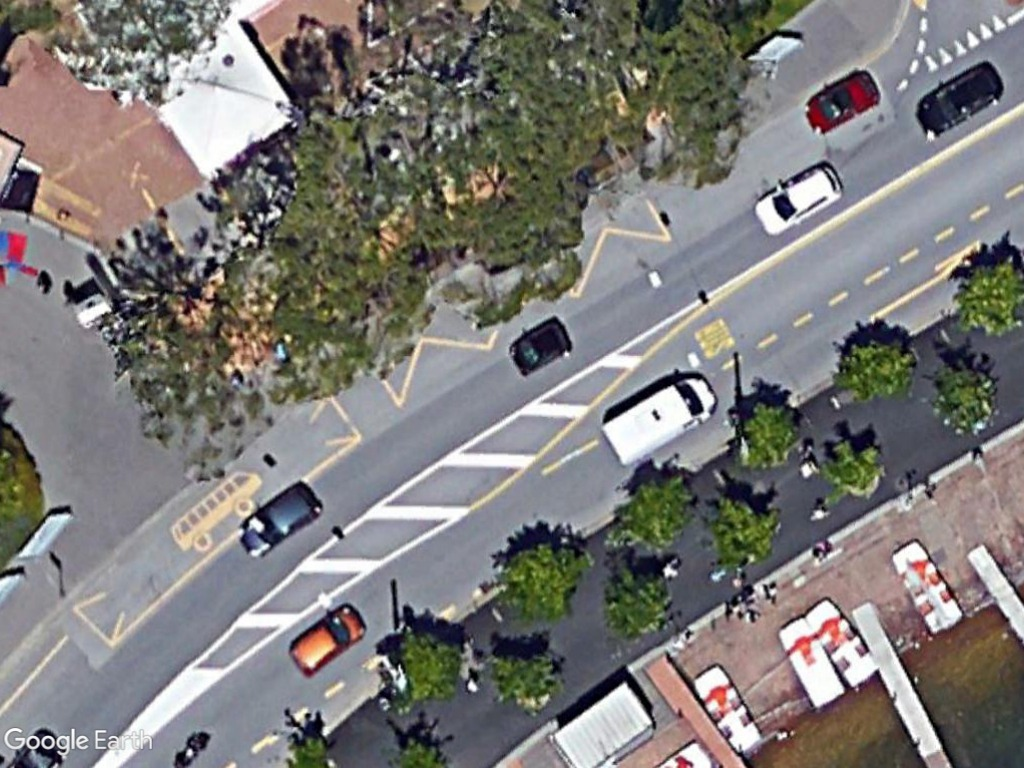car: (751, 160, 845, 239), (234, 479, 324, 560), (285, 599, 365, 681), (802, 66, 884, 133)
van: (600, 373, 720, 468)
